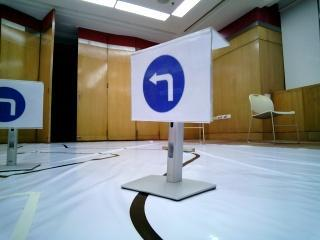left: (133, 51, 206, 121)
